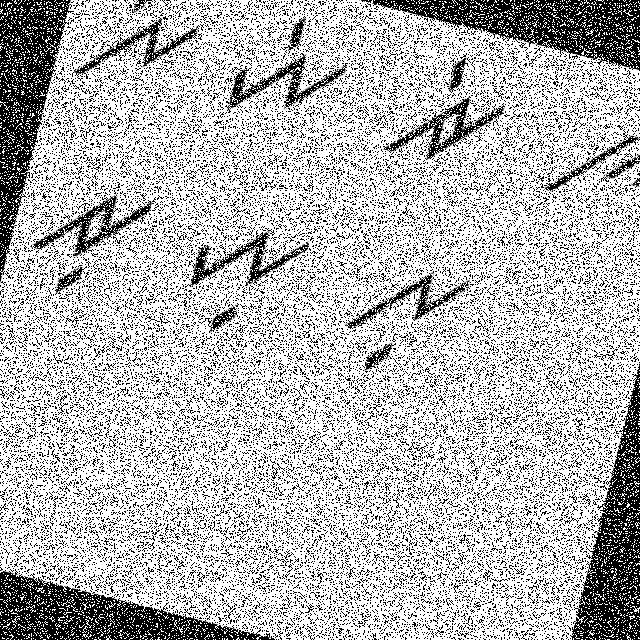le: (65, 0, 216, 106)
lu: (321, 234, 481, 399)
re: (376, 34, 524, 188)
ru: (12, 165, 164, 320)
ye: (215, 0, 362, 141)
yu: (162, 195, 320, 356)
